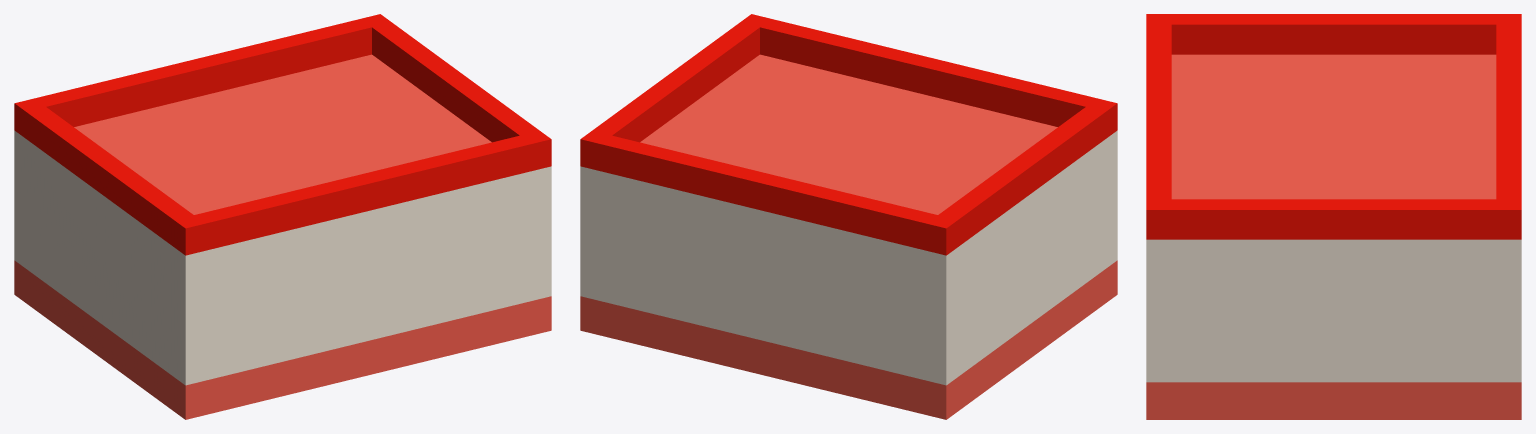
The model's file is Map-Shop-Lv1.fbx.
3 renders of one model, left to right at view 1: azimuth 30°, elevation 25°; view 2: azimuth 150°, elevation 25°; view 3: azimuth 270°, elevation 25°, orthographic. The views are drawn at different scales.
Visible parts, largest first — view 1: Map-Shop-Lv1; view 2: Map-Shop-Lv1; view 3: Map-Shop-Lv1.
Boxes of the visible parts, box(x1,y1,x2,y2) form: Map-Shop-Lv1: box(14, 14, 551, 419); Map-Shop-Lv1: box(580, 14, 1117, 419); Map-Shop-Lv1: box(1146, 14, 1521, 419).
Bounding box in the file's own units: 1.68 × 0.84 × 1.36.
